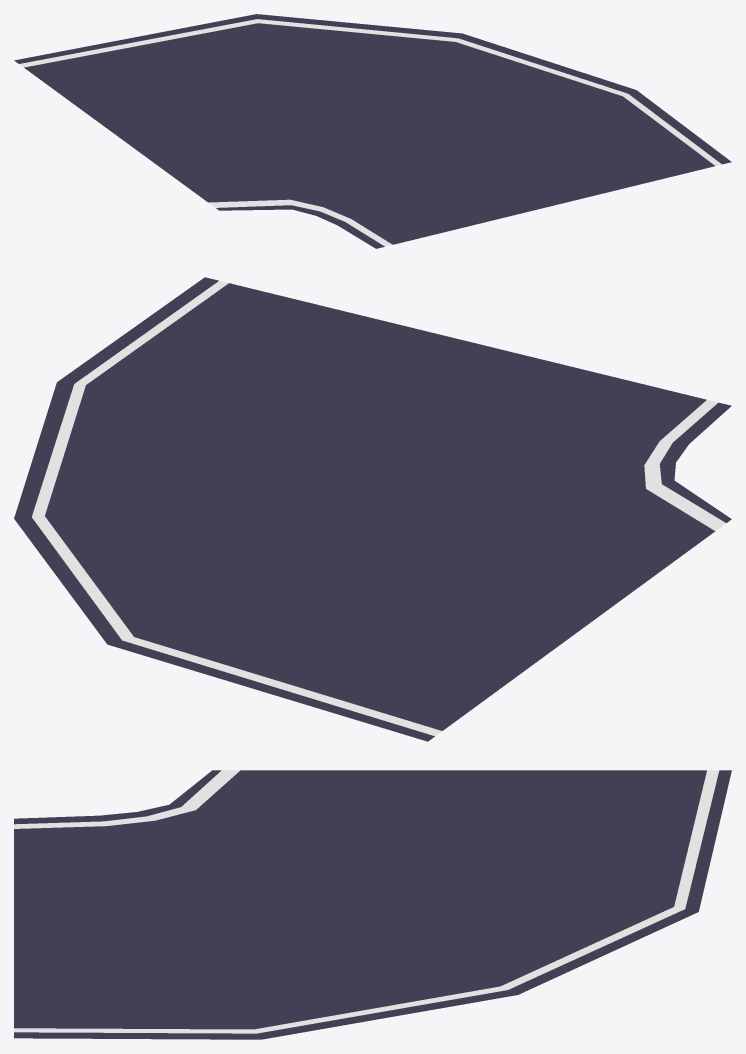
File: Turn_left.fbx
3 renders of one model, top to bottom at view 1: azimuth 30°, elevation 25°; view 2: azimuth 150°, elevation 25°; view 3: azimuth 270°, elevation 25°, orthographic. The views are drawn at different scales.
Parts seen in each view (by area): view 1: Block_1.014; view 2: Block_1.014; view 3: Block_1.014.
Part boxes in pixels (bbox=[...]): Block_1.014: bbox=[14, 14, 731, 248]; Block_1.014: bbox=[14, 277, 731, 741]; Block_1.014: bbox=[14, 770, 731, 1039].
Size of the model in its own units: 24.27 by 0 by 27.32.
1 material, 1 textured.
